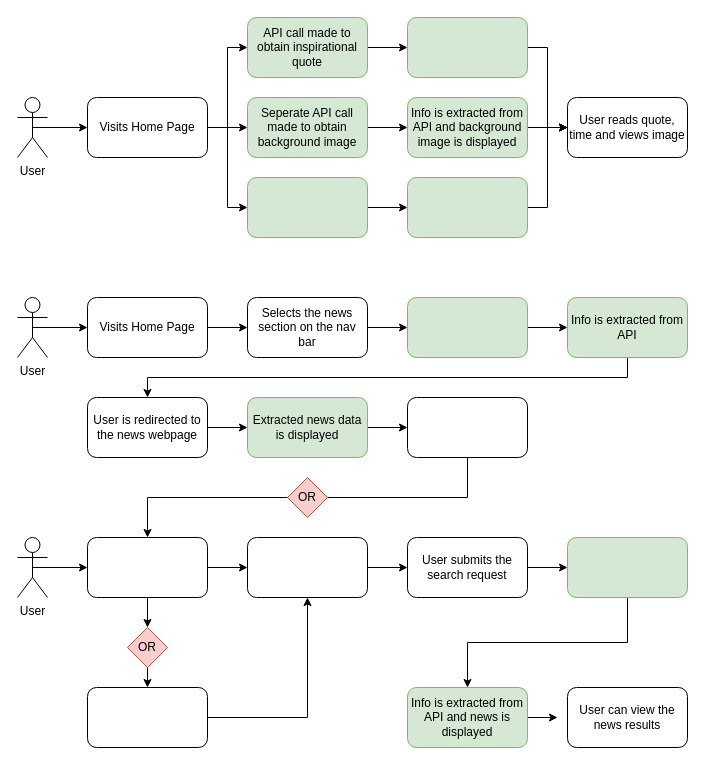
Image size: 705x765. Some labels were removed from this diagram. The centre of each missing label's shape, as x and y in pixels:
API call is made to extract news data based on user entered information: (627,567)
API call is made to obtain latest world news: (467,327)
Current time is obtained based on user's location: (307,207)
Info is extracted from API and quote is displayed: (467,47)
User enters a keyword or location into the search bar: (307,567)
User toggles keyword or location search option: (147,567)
User toggles sub-topic: (147,717)
User views the latest world news: (467,427)
User's current time is displayed: (467,207)
